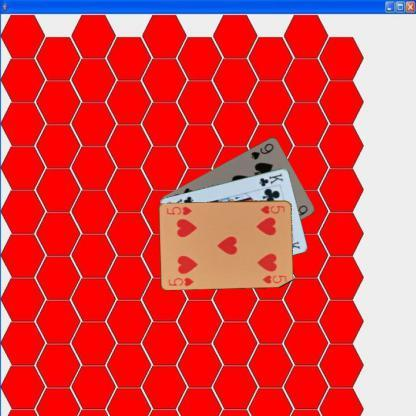5h: (166, 274, 195, 288), (258, 203, 286, 215)
9s: (248, 140, 275, 160)
Kc: (256, 171, 284, 188)
